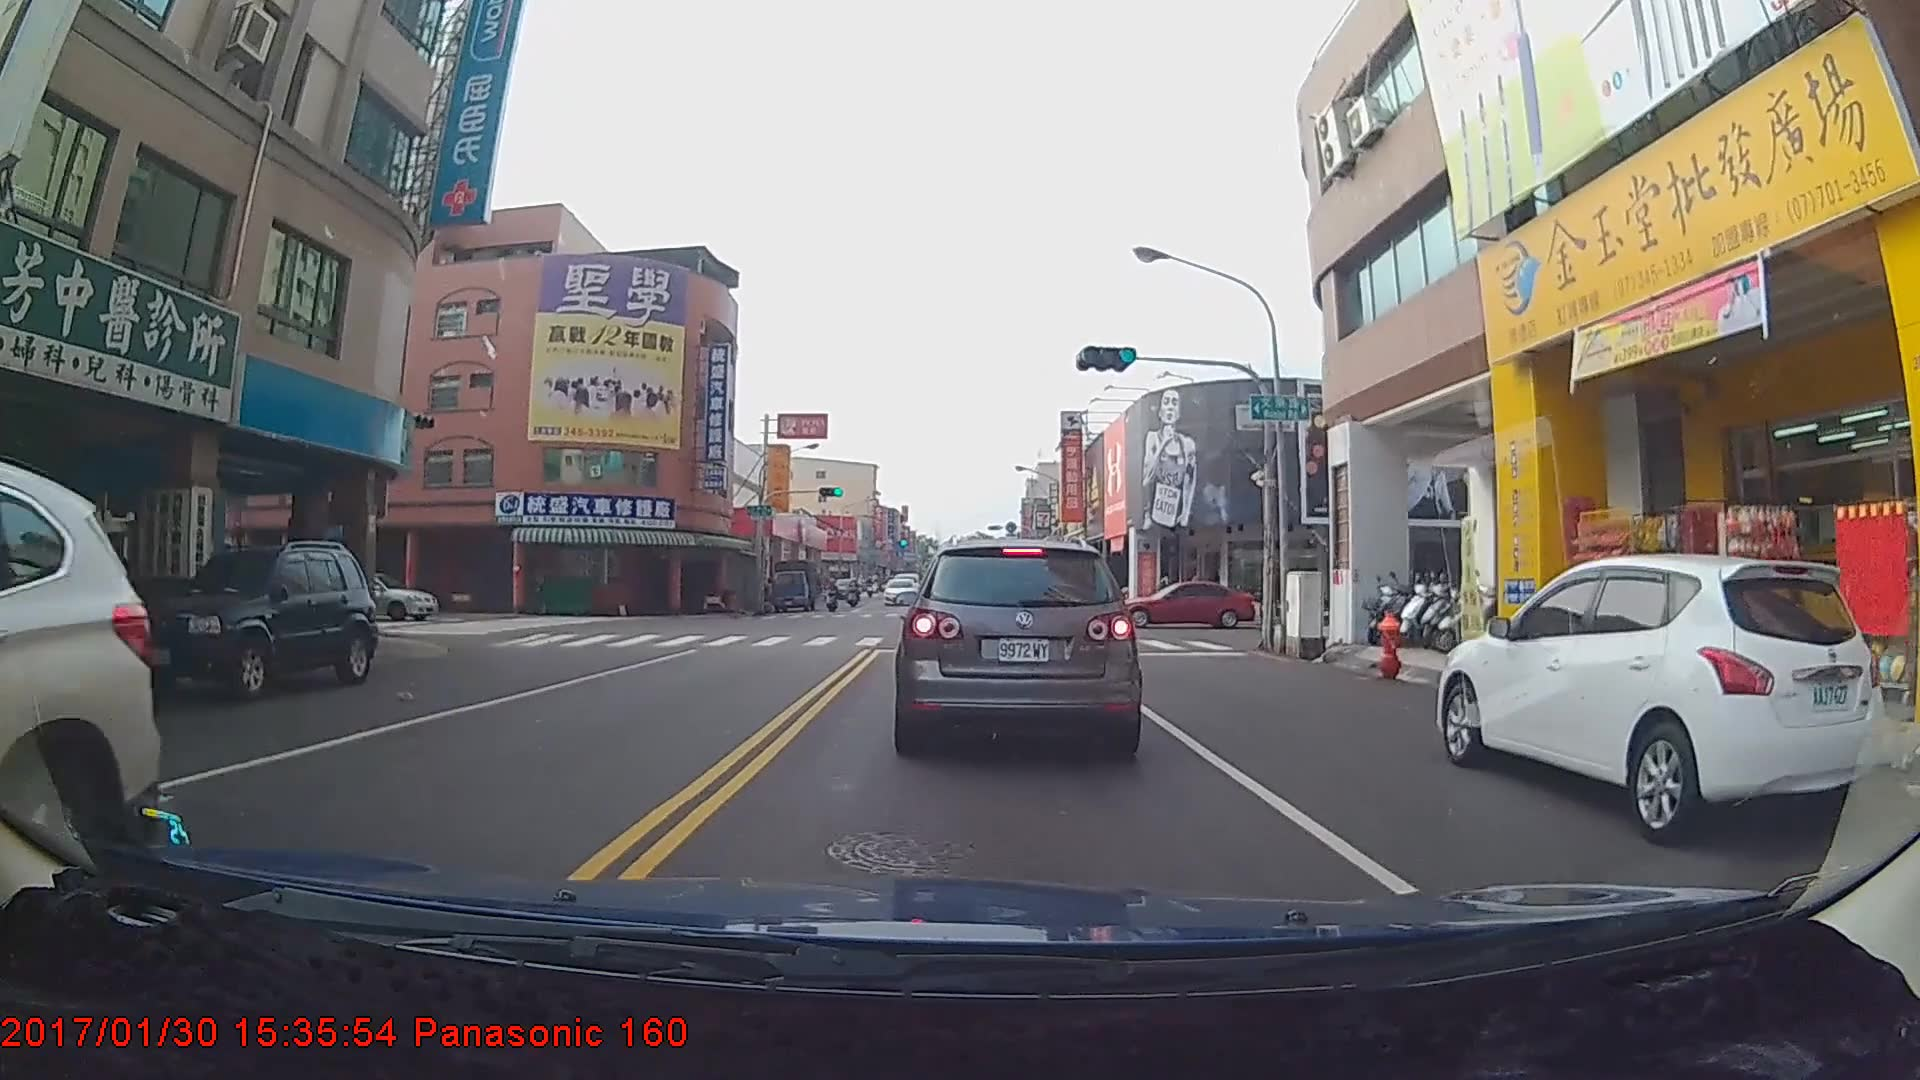rider: (819, 582, 843, 618), (845, 580, 865, 610)
vehicle: (1445, 548, 1887, 847), (1, 459, 162, 1054), (897, 534, 1136, 754), (134, 540, 379, 703), (1109, 577, 1252, 629), (302, 570, 438, 621), (768, 561, 820, 616), (882, 579, 918, 609)
